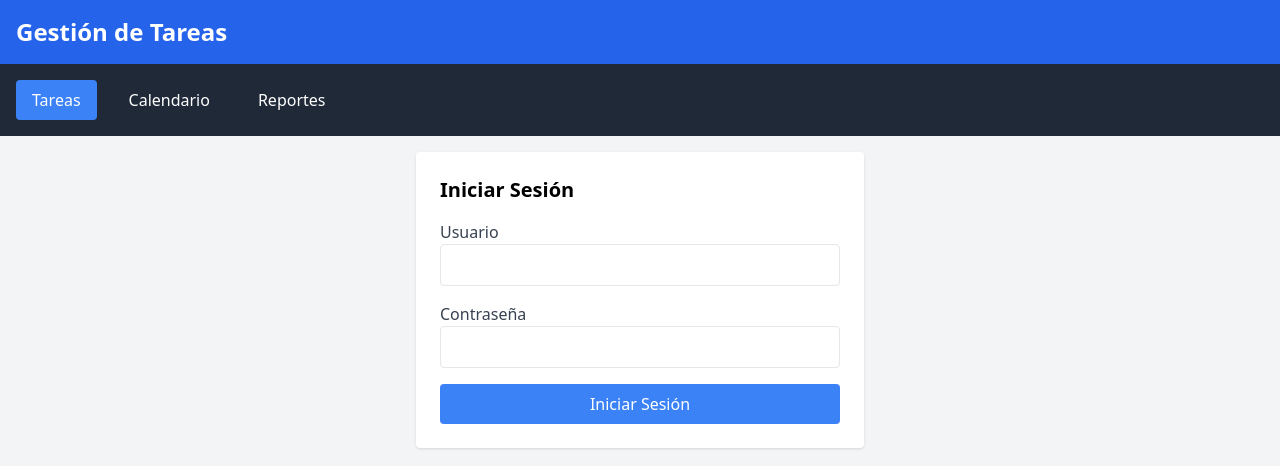
Scenario: App Component › logs in with valid username and submits form
This screenshot has width=1280, height=466.
Type "admin" into the field labelled "Usuario" at [640, 265], box [440,244,840,286]
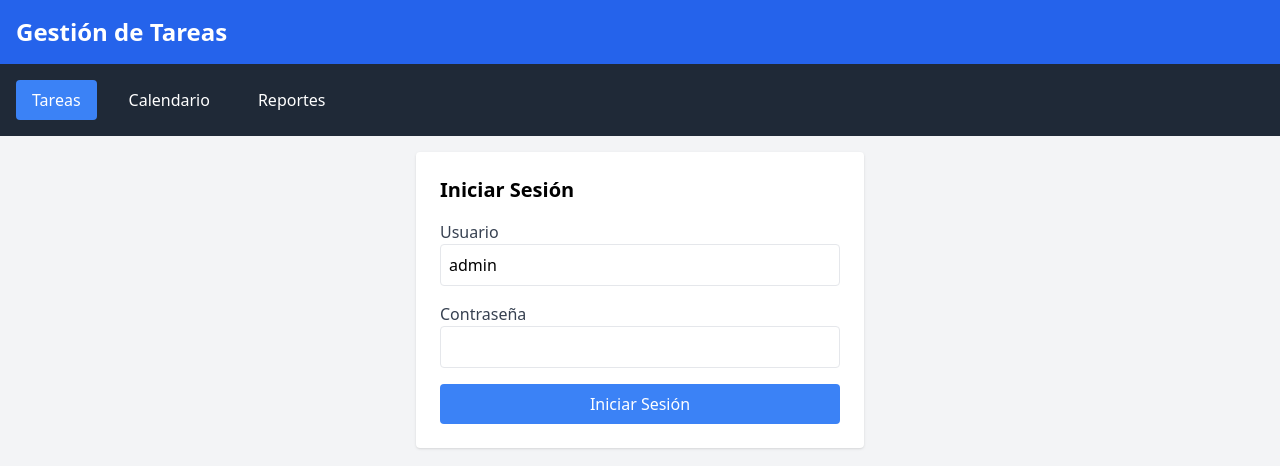
Type "1234" into the password field labelled "Contraseña" at [640, 347], box [440,326,840,368]
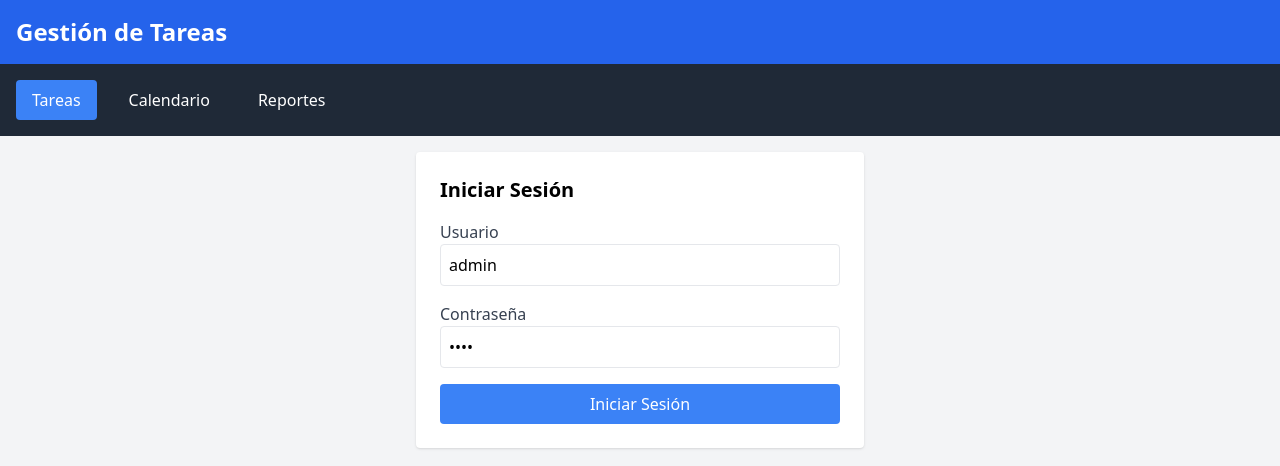
Click the button "Iniciar Sesión" at [640, 404], box [440,384,840,424]
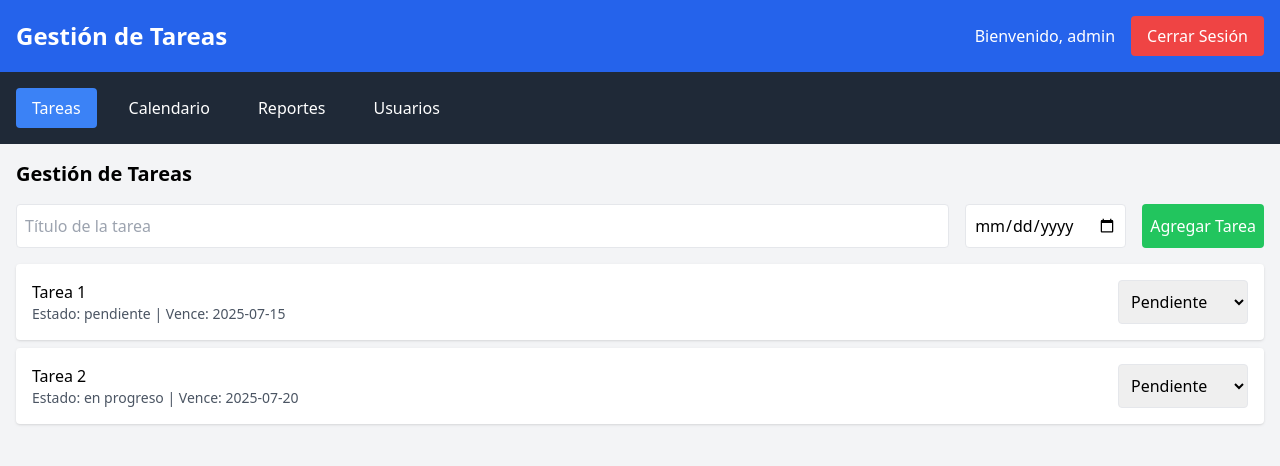
Expected: the button "Tareas" is shown, [16,88,96,128]
Expected: the text "Bienvenido, admin" is shown, [975,24,1115,48]
